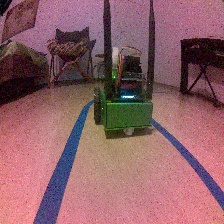rob: (92, 54, 153, 136)
